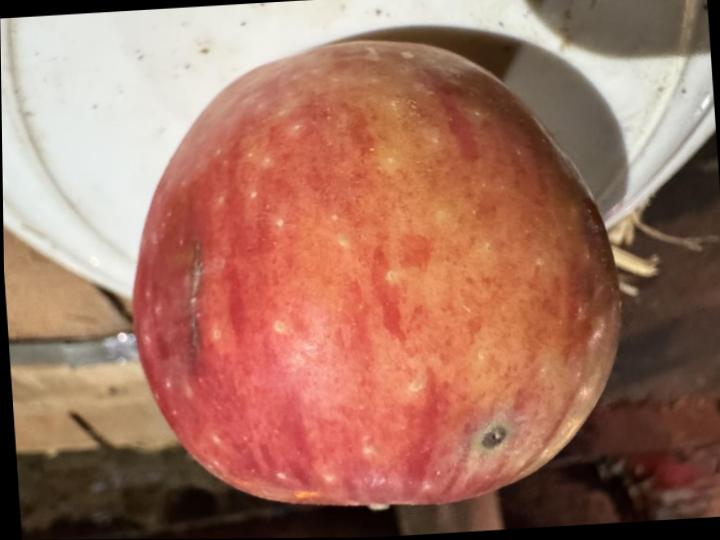apple: (134, 41, 619, 505)
surface_damage: (184, 235, 212, 369), (468, 419, 513, 458)
